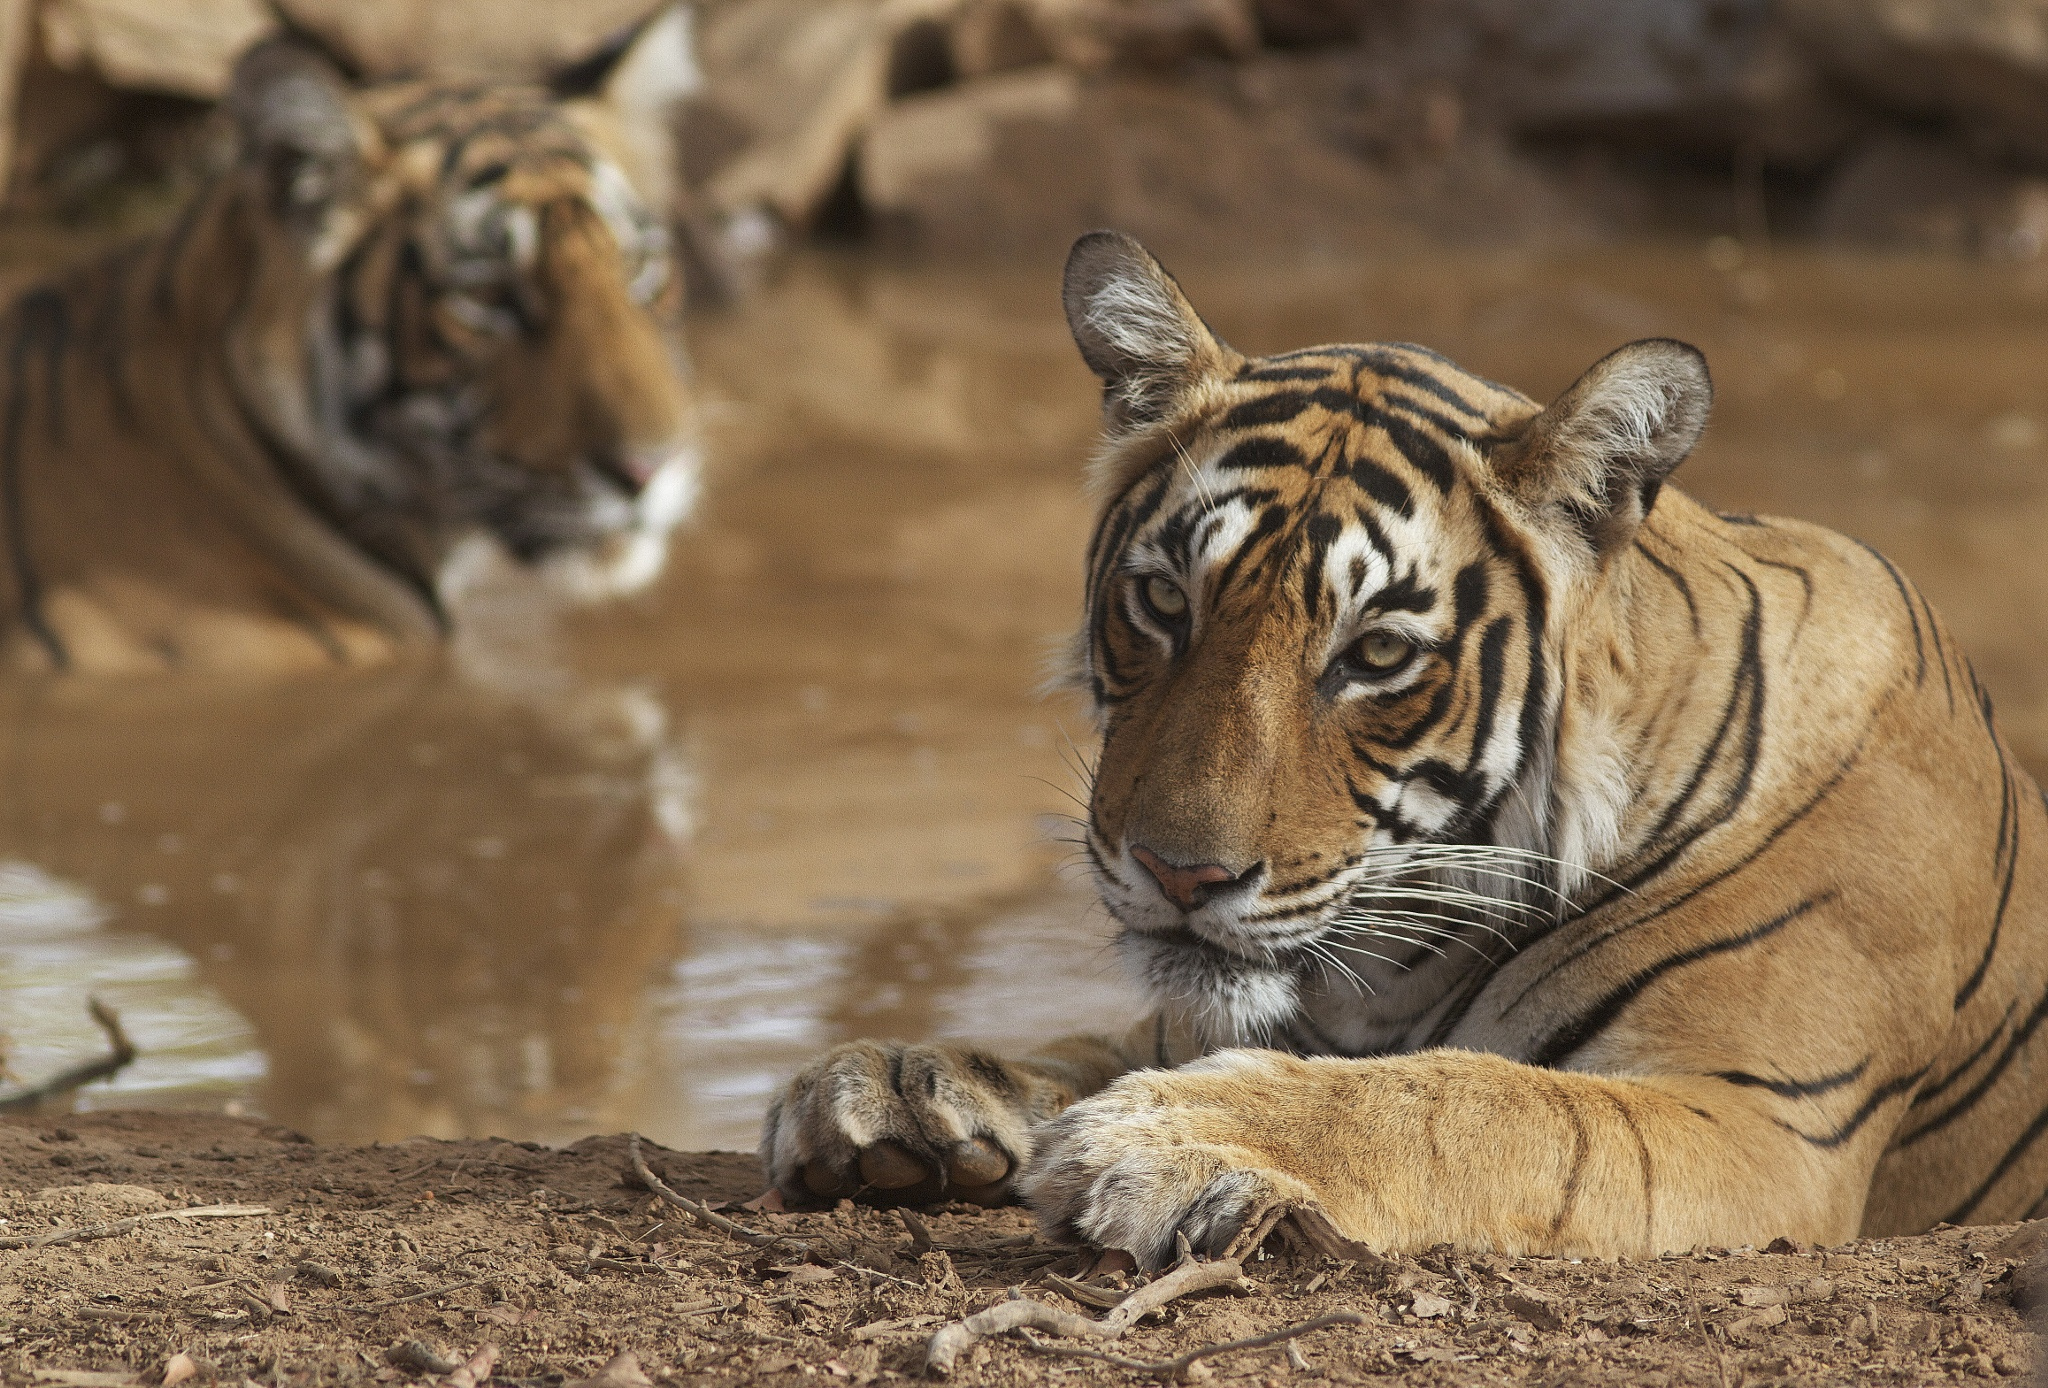tiger: (906, 197, 2005, 1290), (90, 3, 747, 702)
